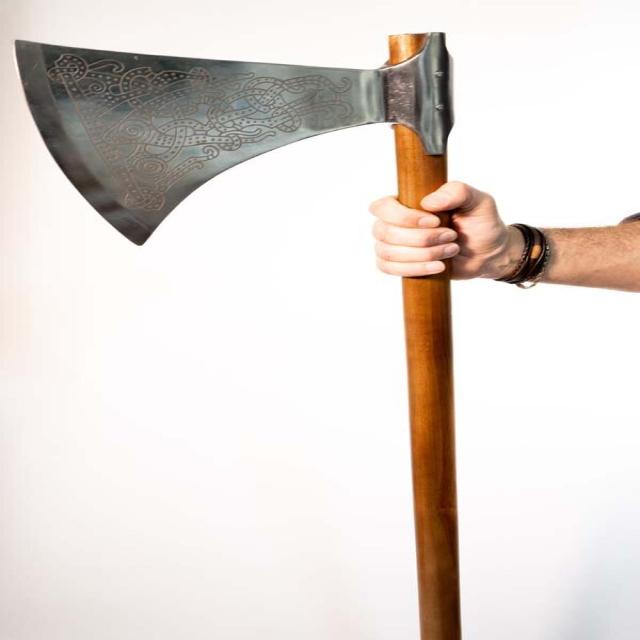Gun: (0, 4, 500, 640)
